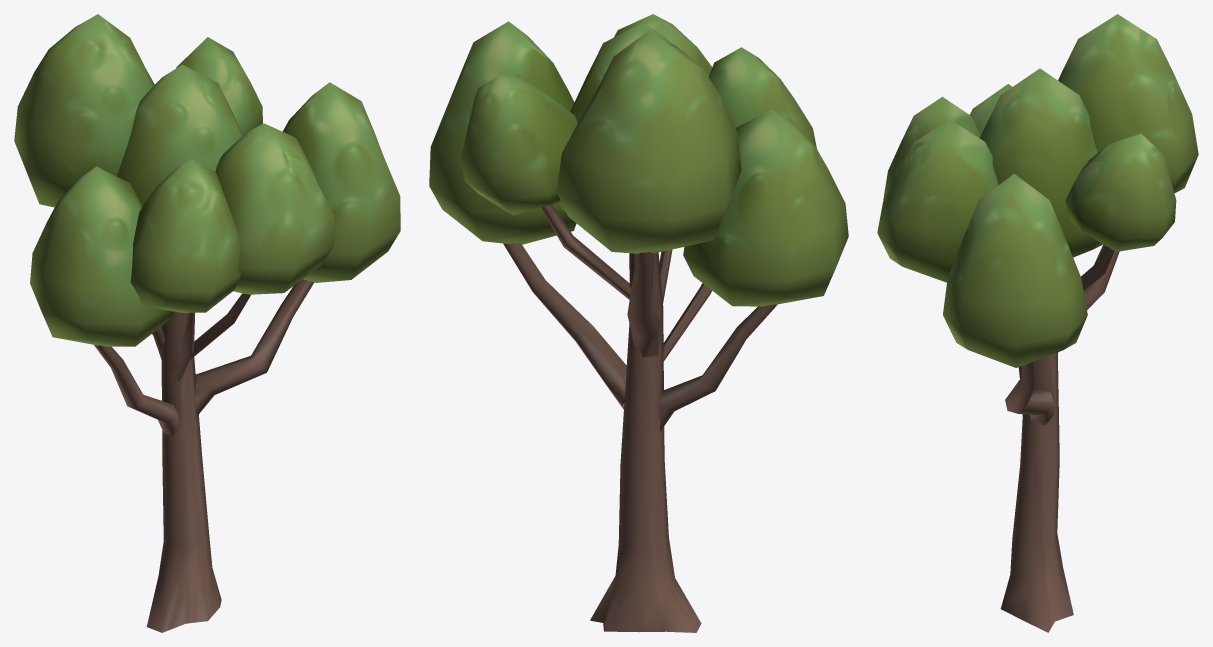
The model's file is tree_03_mesh.fbx.
3 views of the same model, side by side, from view 1: azimuth 30°, elevation 25°; view 2: azimuth 150°, elevation 25°; view 3: azimuth 270°, elevation 25° (orthographic). The views are drawn at different scales.
Visible parts, largest first — view 1: tree_04; view 2: tree_04; view 3: tree_04.
Boxes of the visible parts, left/top/right/bottom form: tree_04: left=14, top=14, right=400, bottom=632; tree_04: left=429, top=14, right=848, bottom=632; tree_04: left=877, top=14, right=1198, bottom=632.
Size of the model in its own units: 194 by 306 by 155.
